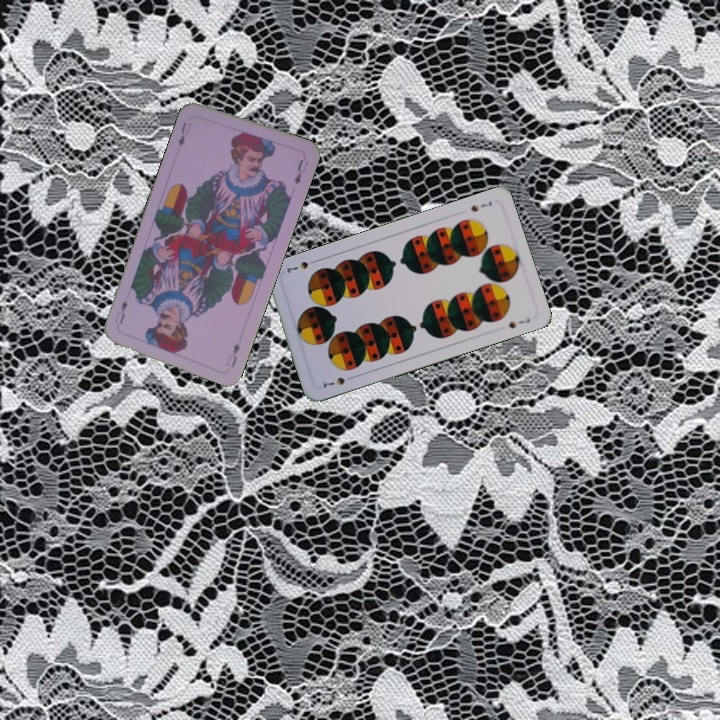EU: (174, 118, 194, 149), (222, 339, 242, 370)
S7: (319, 372, 357, 390), (467, 197, 495, 214)
